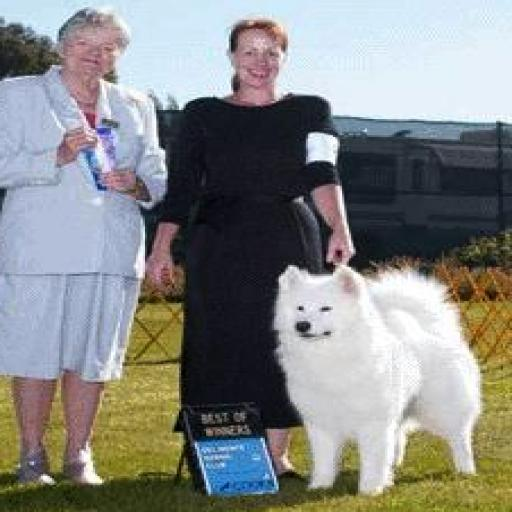dog_face: (274, 263, 363, 350)
